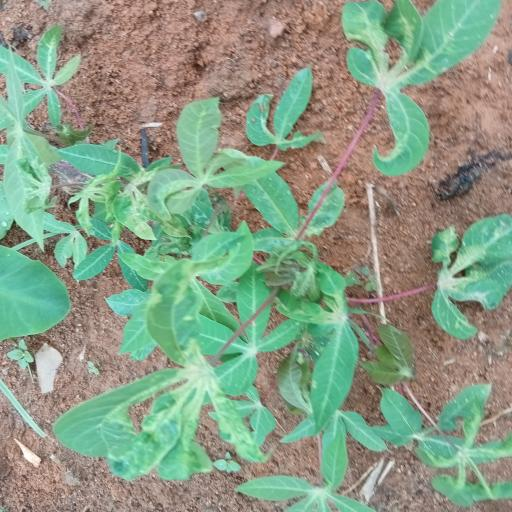Cassava_Mosaic: (61, 260, 250, 492), (335, 2, 509, 170), (430, 208, 512, 323), (0, 29, 81, 123)
